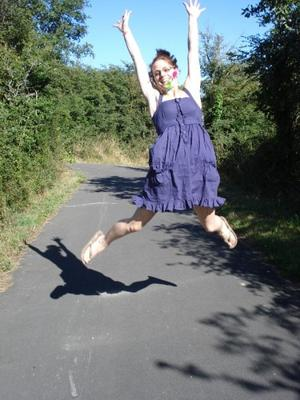person: (80, 2, 238, 266)
